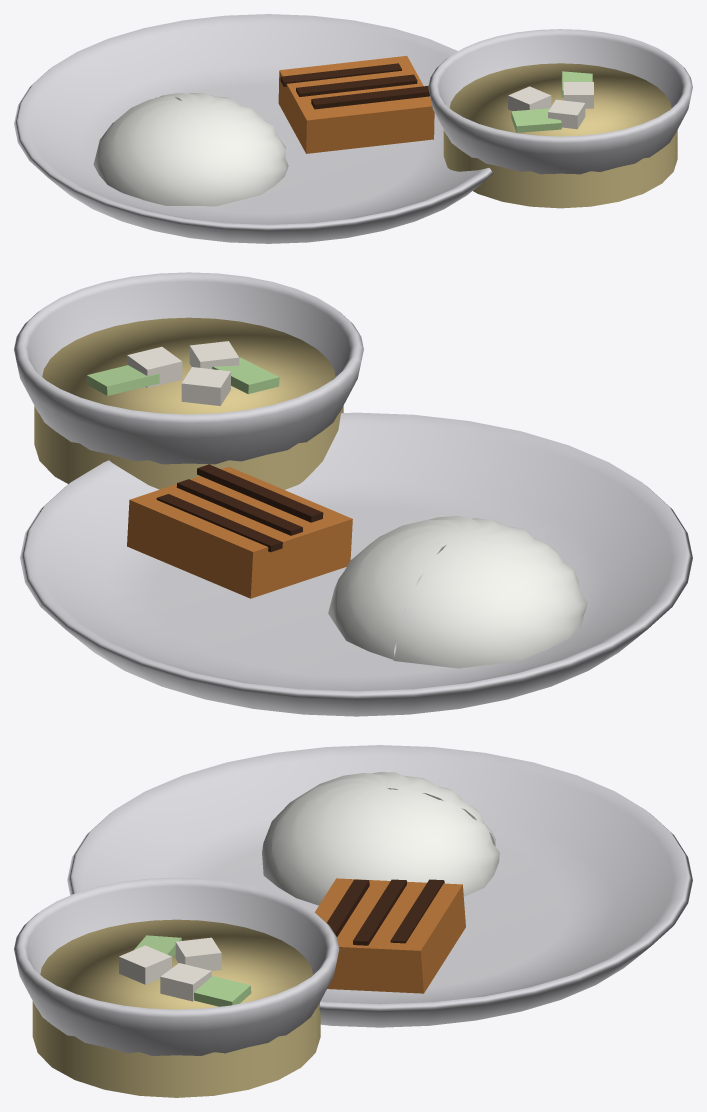
The model's file is Dish_05_GrilledChickenTofuSoup.obj.
The picture shows the model from 3 angles, top to bottom: view 1: azimuth 30°, elevation 25°; view 2: azimuth 150°, elevation 25°; view 3: azimuth 270°, elevation 25°; orthographic projection. The views are drawn at different scales.
Parts seen in each view (by area): view 1: Mat_FoodPlate, Mat_RiceMound, Mat_SoupBroth, Mat_GrilledChicken, Mat_GrillMark, Mat_Tofu, Mat_ChineseCabbage; view 2: Mat_FoodPlate, Mat_RiceMound, Mat_SoupBroth, Mat_GrilledChicken, Mat_GrillMark, Mat_Tofu, Mat_ChineseCabbage; view 3: Mat_FoodPlate, Mat_SoupBroth, Mat_RiceMound, Mat_GrilledChicken, Mat_Tofu, Mat_GrillMark, Mat_ChineseCabbage.
Boxes of the visible parts, x1,y1,x2,y2 form: Mat_FoodPlate: (14, 14, 692, 243); Mat_RiceMound: (93, 93, 288, 206); Mat_SoupBroth: (443, 63, 677, 208); Mat_GrilledChicken: (278, 56, 434, 153); Mat_GrillMark: (280, 63, 429, 109); Mat_Tofu: (508, 82, 593, 129); Mat_ChineseCabbage: (511, 71, 592, 132); Mat_FoodPlate: (14, 272, 692, 716); Mat_RiceMound: (328, 516, 587, 668); Mat_SoupBroth: (34, 317, 343, 489); Mat_GrilledChicken: (127, 466, 352, 598); Mat_GrillMark: (156, 464, 323, 552); Mat_Tofu: (127, 341, 239, 405); Mat_ChineseCabbage: (87, 357, 279, 395); Mat_FoodPlate: (14, 745, 692, 1055); Mat_SoupBroth: (32, 919, 320, 1097); Mat_RiceMound: (262, 772, 499, 905); Mat_GrilledChicken: (315, 878, 465, 993); Mat_Tofu: (119, 937, 221, 1001); Mat_GrillMark: (327, 879, 444, 945); Mat_ChineseCabbage: (134, 935, 251, 1006).
Size of the model in its own units: 0.247 by 0.038 by 0.217.
